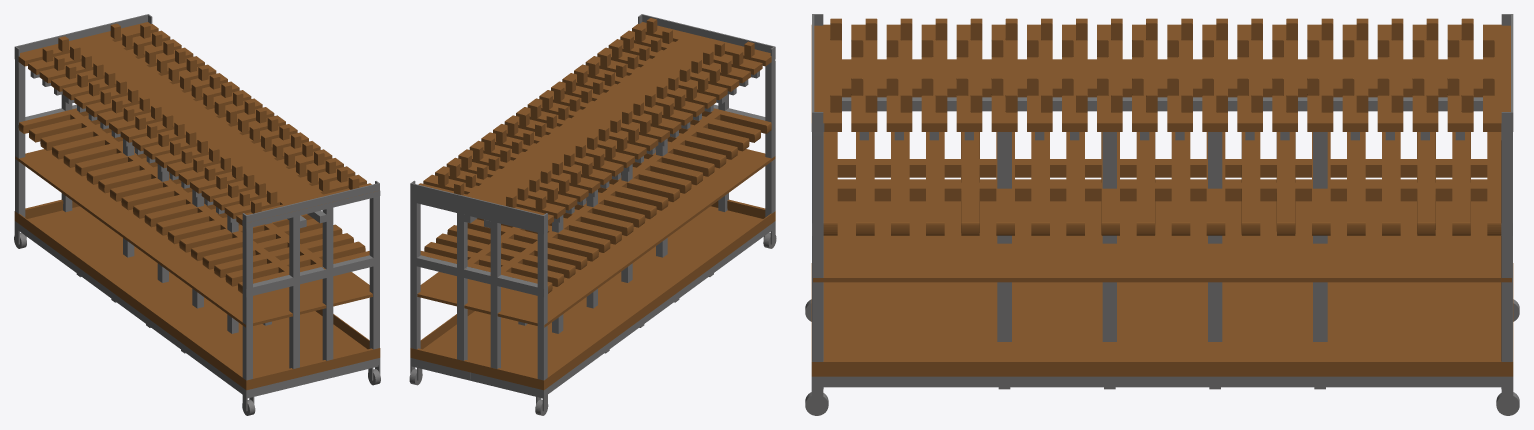
File: CF6-80Car.glb
3 renders of one model, left to right at view 1: azimuth 30°, elevation 25°; view 2: azimuth 150°, elevation 25°; view 3: azimuth 270°, elevation 25°, orthographic. The views are drawn at different scales.
Parts seen in each view (by area): view 1: 平面.008, Cube, 平面.001, 平面, 立方体.003, 立方体.002, 立方体, 立方体.001, 平面.010, 平面.013, 平面.003, 平面.002 (+5 smaller); view 2: 平面.008, Cube, 平面.001, 平面, 立方体.002, 立方体.003, 立方体, 立方体.001, 平面.010, 平面.003, 平面.013, 平面.002 (+6 smaller); view 3: Cube, 平面.008, 平面, 平面.001, 平面.003, 立方体.002, 立方体.003, 平面.013, 立方体.006, 立方体, 平面.004, 平面.005 (+3 smaller).
Part boxes in pixels (x1,y1,x2,y2): 平面.008: (14,22,380,228); Cube: (14,199,380,390); 平面.001: (29,115,365,286); 平面: (15,149,372,327); 立方体.003: (58,23,329,204); 立方体.002: (42,23,359,213); 立方体: (15,65,379,380); 立方体.001: (61,94,333,385); 平面.010: (14,14,379,222); 平面.013: (14,221,380,397); 平面.003: (67,109,325,273); 平面.002: (15,104,379,297); 平面.008: (410,22,775,228); Cube: (410,199,775,390); 平面.001: (424,116,760,286); 平面: (417,149,775,327); 立方体.002: (438,18,754,209); 立方体.003: (454,28,724,207); 立方体: (410,60,775,380); 立方体.001: (457,94,728,385); 平面.010: (410,14,775,222); 平面.003: (465,108,724,275); 平面.013: (410,221,775,397); 平面.002: (410,104,775,297); Cube: (811,263,1513,376); 平面.008: (811,24,1513,131); 平面: (813,179,1511,282); 平面.001: (856,132,1470,235); 平面.003: (823,159,1501,201); 立方体.002: (830,18,1473,112); 立方体.003: (851,35,1494,95); 平面.013: (811,376,1513,387); 立方体.006: (997,132,1327,341); 立方体: (812,132,1512,361); 平面.004: (823,132,1501,235); 平面.005: (842,97,1482,111).
Size of the model in its own units: 1 by 1.47 by 3.06.
